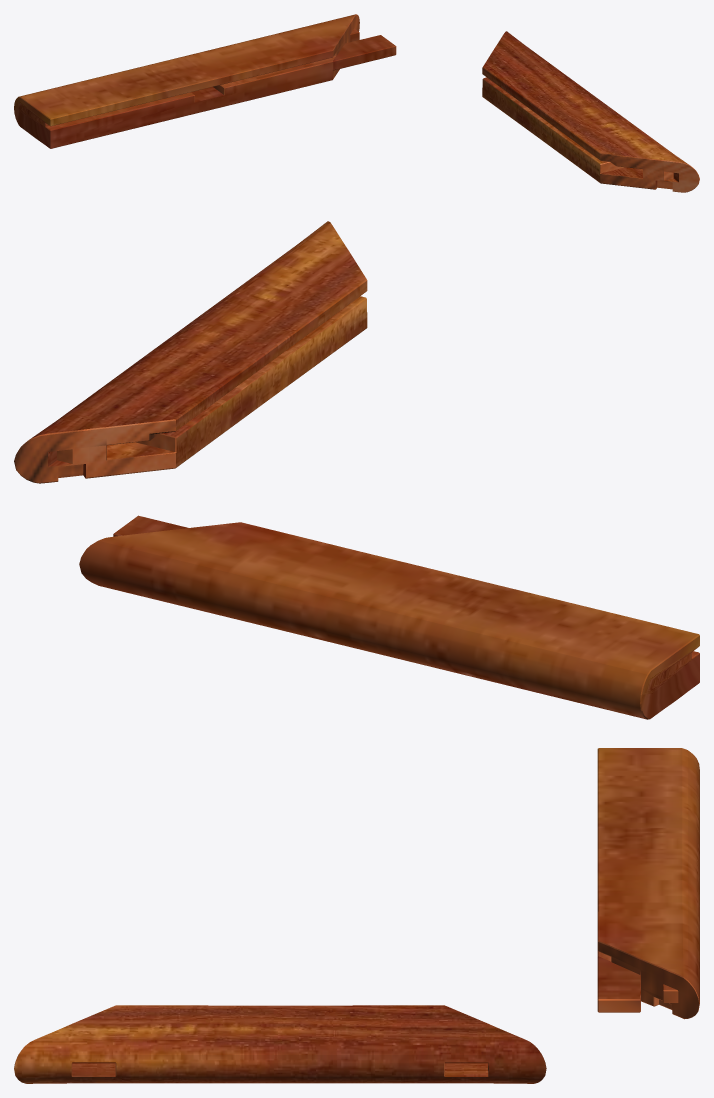
The model's file is ytsy_J_dabian_2.FBX.
The picture shows the model from 3 angles, top to bottom: view 1: azimuth 30°, elevation 25°; view 2: azimuth 150°, elevation 25°; view 3: azimuth 270°, elevation 25°; orthographic projection. The views are drawn at different scales.
Parts seen in each view (by area): view 1: ytsy_J_dabian_2, ytsy_J_motou_2; view 2: ytsy_J_dabian_2, ytsy_J_motou_2; view 3: ytsy_J_motou_2, ytsy_J_dabian_2.
Boxes of the visible parts, x1,y1,x2,y2 form: ytsy_J_dabian_2: (14, 14, 396, 148); ytsy_J_motou_2: (482, 31, 699, 192); ytsy_J_dabian_2: (79, 515, 699, 719); ytsy_J_motou_2: (14, 221, 367, 483); ytsy_J_motou_2: (14, 1005, 546, 1083); ytsy_J_dabian_2: (597, 748, 699, 1019).
Bounding box in the file's own units: 48.62 × 3.25 × 46.89.
